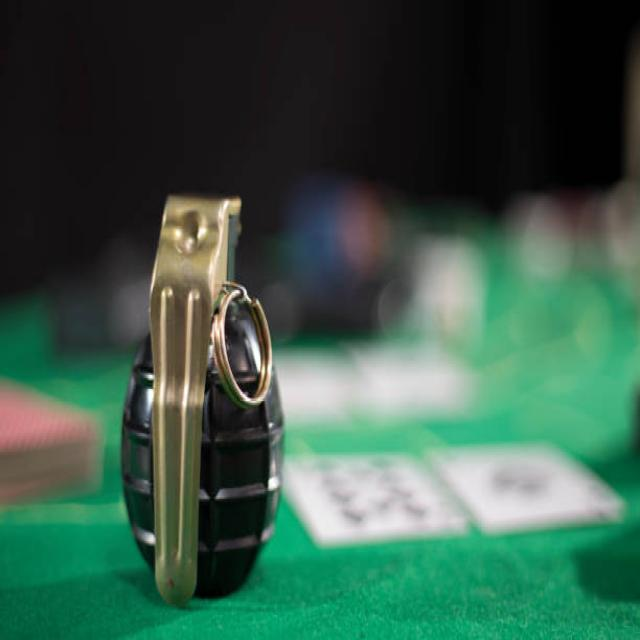grenade: (119, 179, 292, 617)
